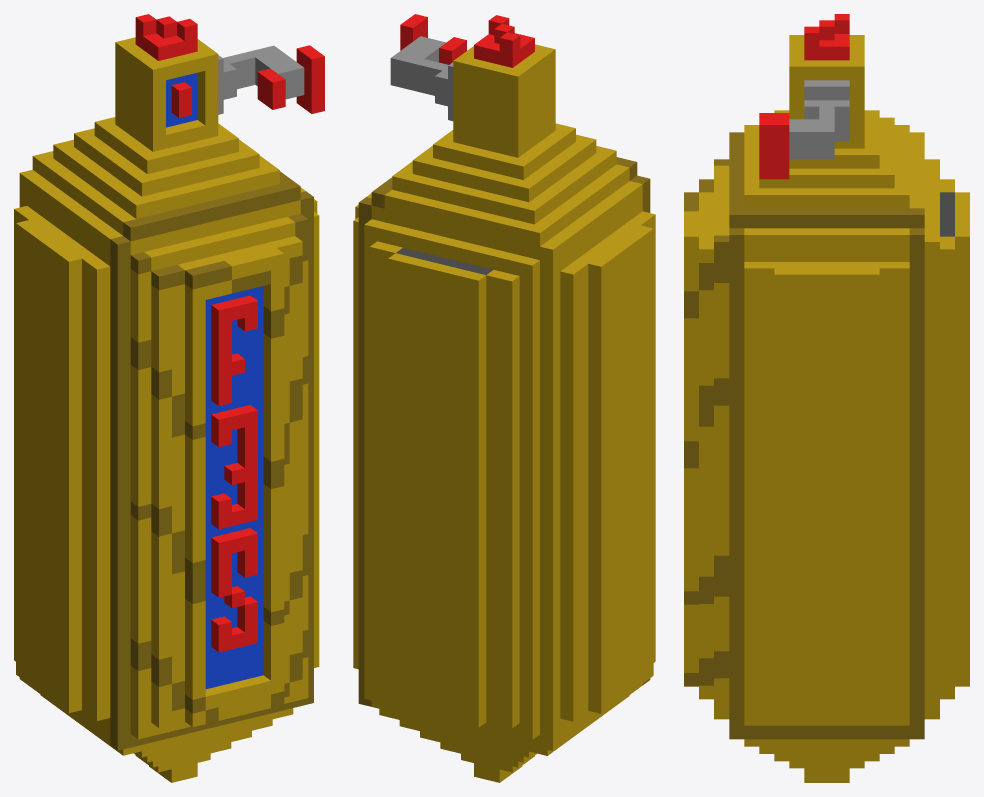
The model's file is Combustible.fbx.
3 views of the same model, side by side, from view 1: azimuth 30°, elevation 25°; view 2: azimuth 150°, elevation 25°; view 3: azimuth 270°, elevation 25° (orthographic).
Visible parts, largest first — view 1: Combustible; view 2: Combustible; view 3: Combustible.
Part boxes in pixels (x1,y1,x2,y2): Combustible: (14,14,324,782); Combustible: (353,14,655,782); Combustible: (684,14,969,782).
Size of the model in its own units: 190 by 550 by 190.
